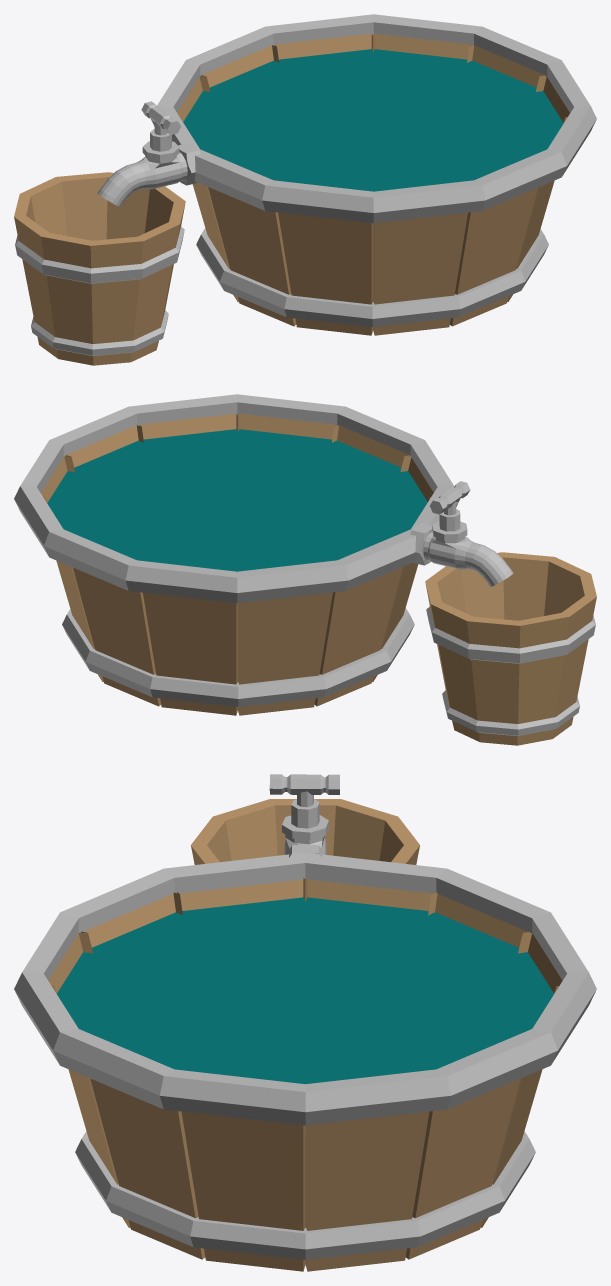
The model's file is WashingBasket.fbx.
The picture shows the model from 3 angles, top to bottom: view 1: azimuth 30°, elevation 25°; view 2: azimuth 150°, elevation 25°; view 3: azimuth 270°, elevation 25°; orthographic projection. The views are drawn at different scales.
Visible parts, largest first — view 1: Circle; view 2: Circle; view 3: Circle.
Part boxes in pixels (left/top/right/bottom): Circle: left=14, top=14, right=596, bottom=365; Circle: left=14, top=394, right=596, bottom=745; Circle: left=14, top=774, right=596, bottom=1271.
Bounding box in the file's own units: 421 × 158 × 301.
